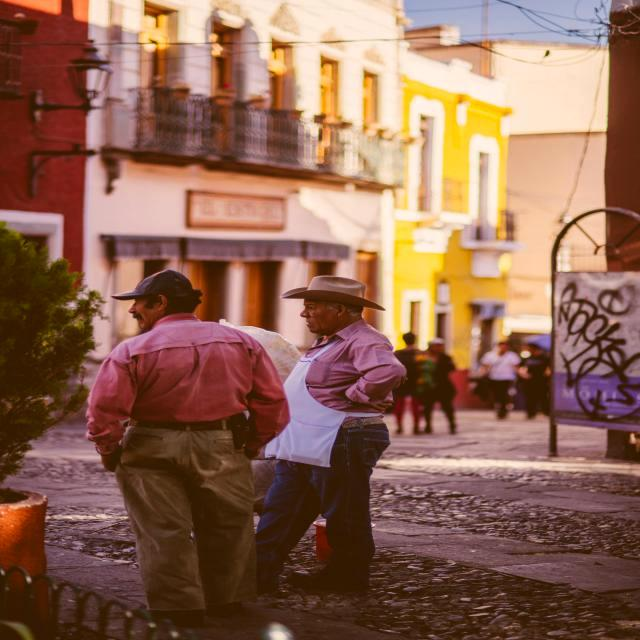no_hard_hat: (280, 276, 385, 311), (111, 270, 202, 300)
person: (87, 270, 289, 628), (256, 276, 406, 593)
